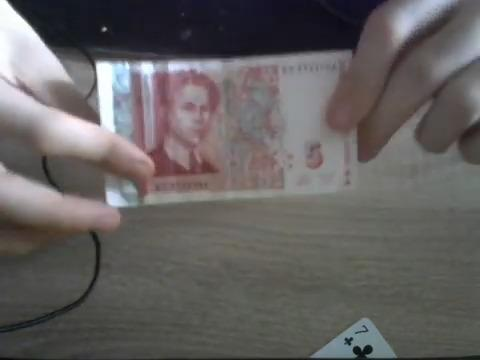5leva: (95, 49, 363, 199)
